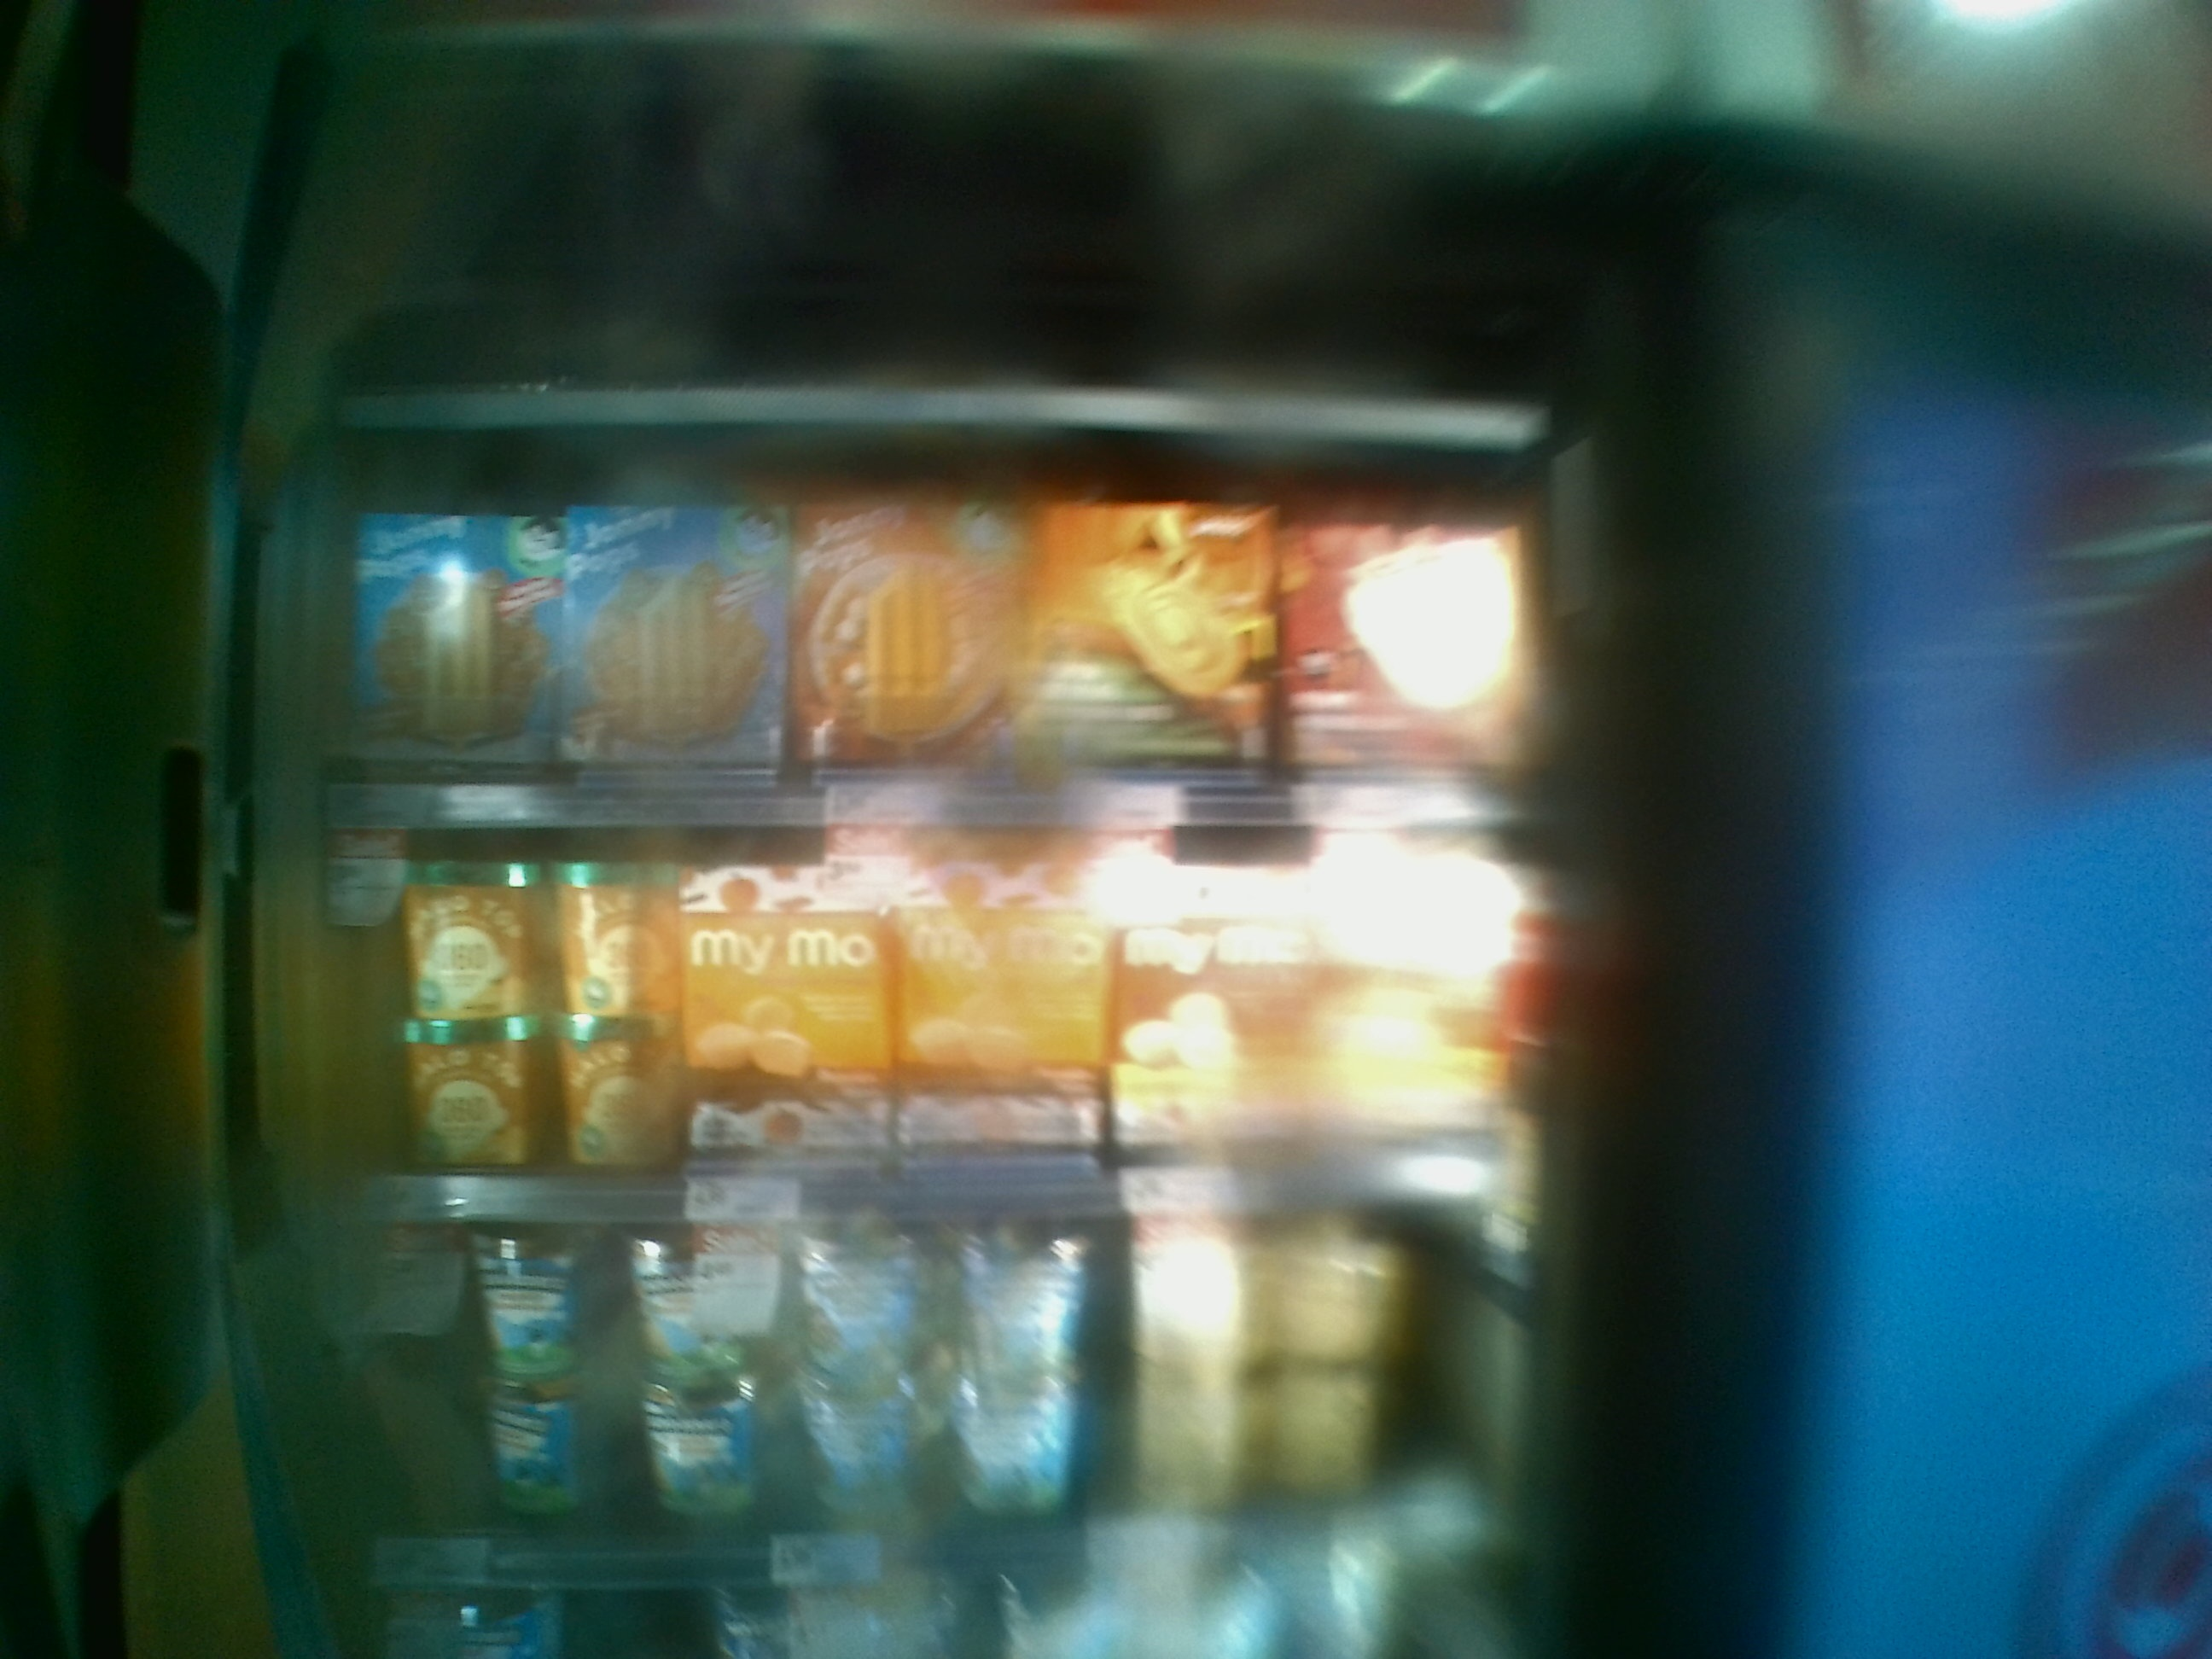shelf: (289, 809, 1555, 1229), (294, 422, 1561, 833)
